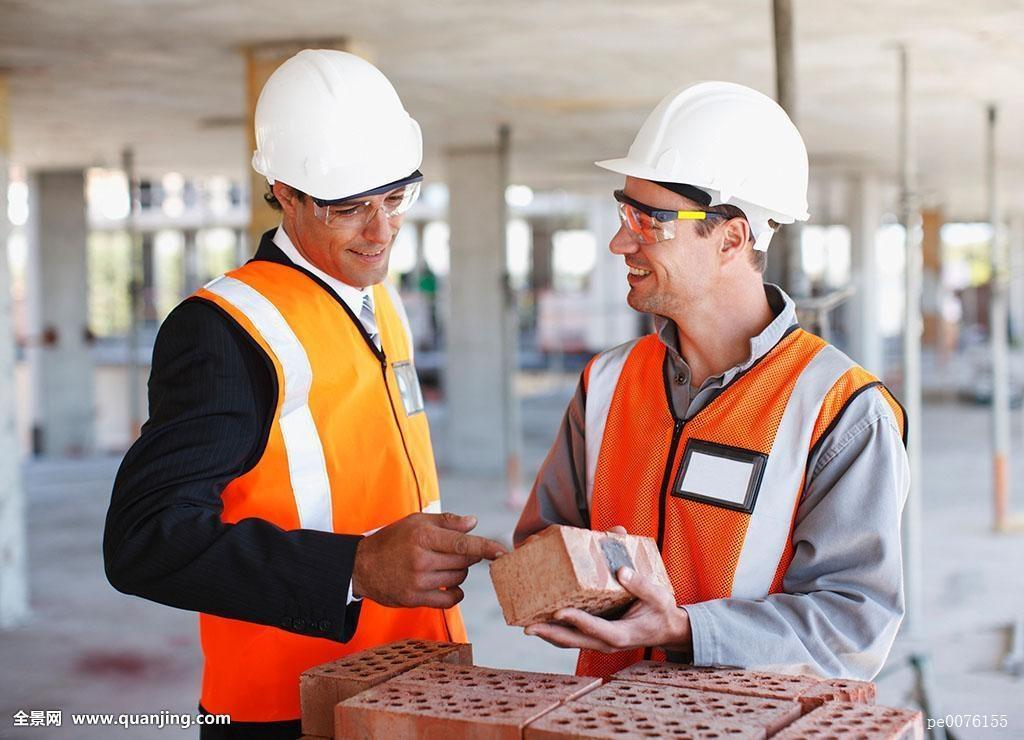helmet: (236, 52, 442, 215), (593, 84, 823, 225)
person: (101, 39, 493, 740), (549, 79, 926, 670)
vest: (573, 319, 891, 690), (191, 264, 451, 700)
